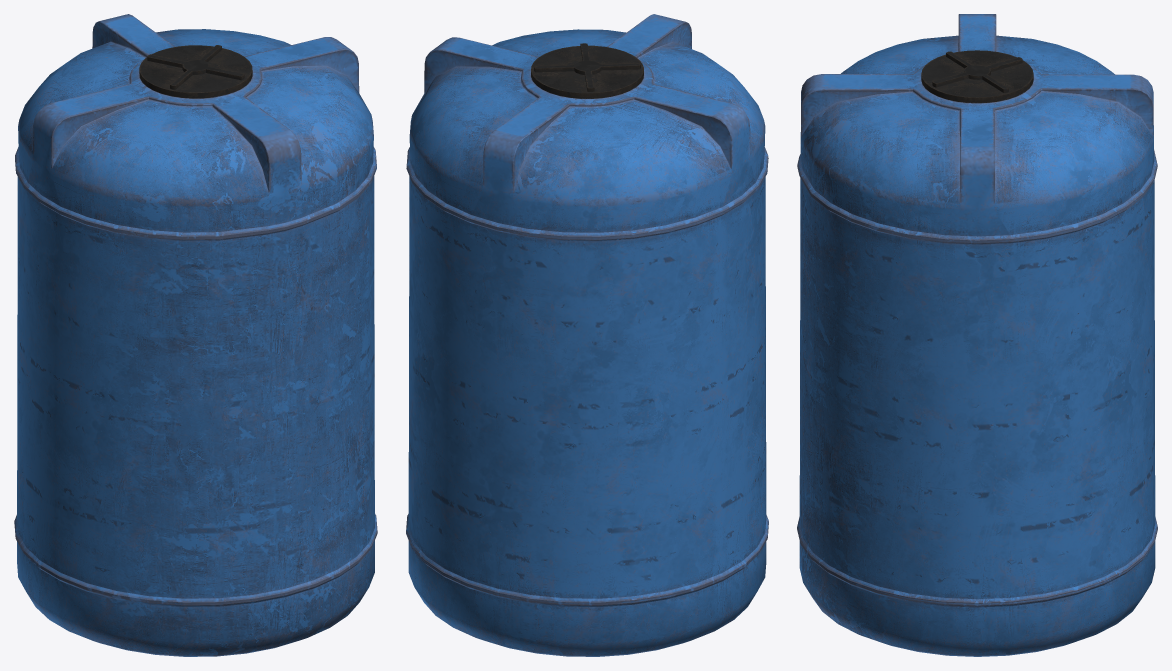
The model's file is SM_WaterTank02.fbx.
The picture shows the model from 3 angles, left to right: view 1: azimuth 30°, elevation 25°; view 2: azimuth 150°, elevation 25°; view 3: azimuth 270°, elevation 25°; orthographic projection.
Parts seen in each view (by area): view 1: SM_WaterTank02_LOD0; view 2: SM_WaterTank02_LOD0; view 3: SM_WaterTank02_LOD0.
Boxes of the visible parts, x1,y1,x2,y2 form: SM_WaterTank02_LOD0: [14, 14, 377, 656]; SM_WaterTank02_LOD0: [406, 14, 768, 656]; SM_WaterTank02_LOD0: [797, 14, 1157, 656].
Size of the model in its own units: 81.7 by 81.7 by 130.
Materials: 1 (1 with a texture image).
